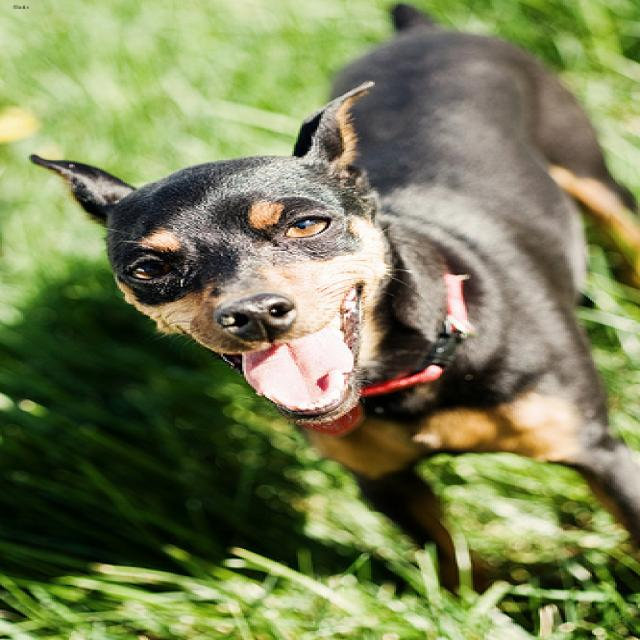dog-miniature_pinscher: (10, 1, 636, 607)
